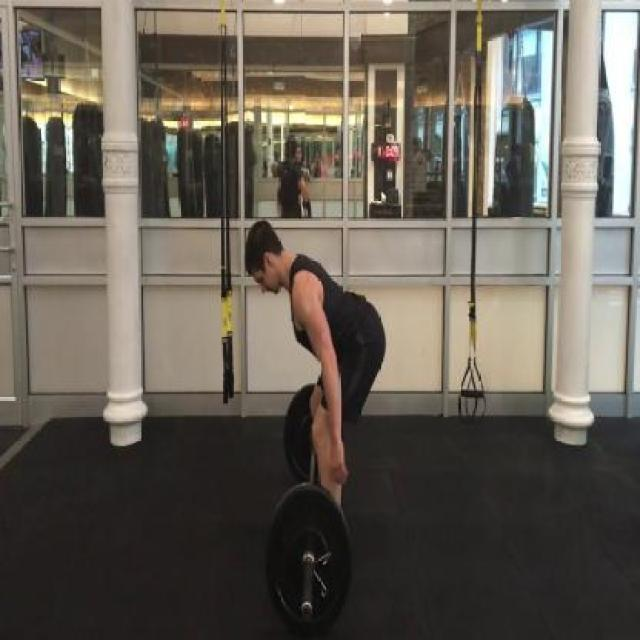barbell: (257, 476, 363, 640)
